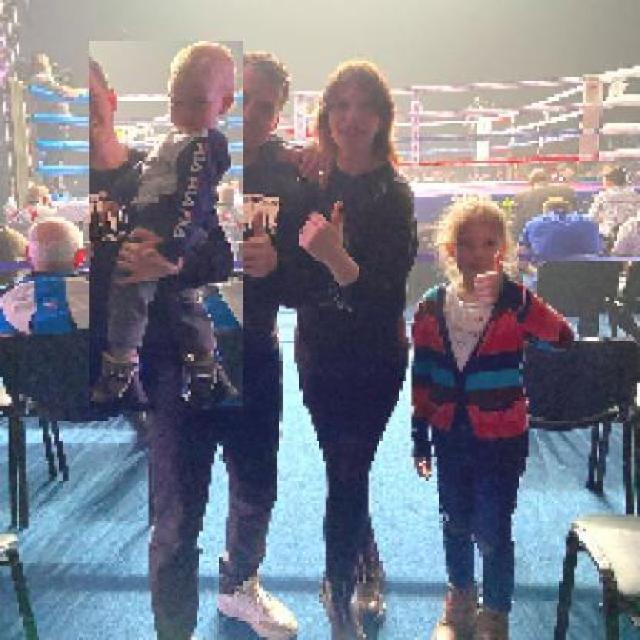child: (408, 197, 574, 637), (88, 40, 243, 411)
